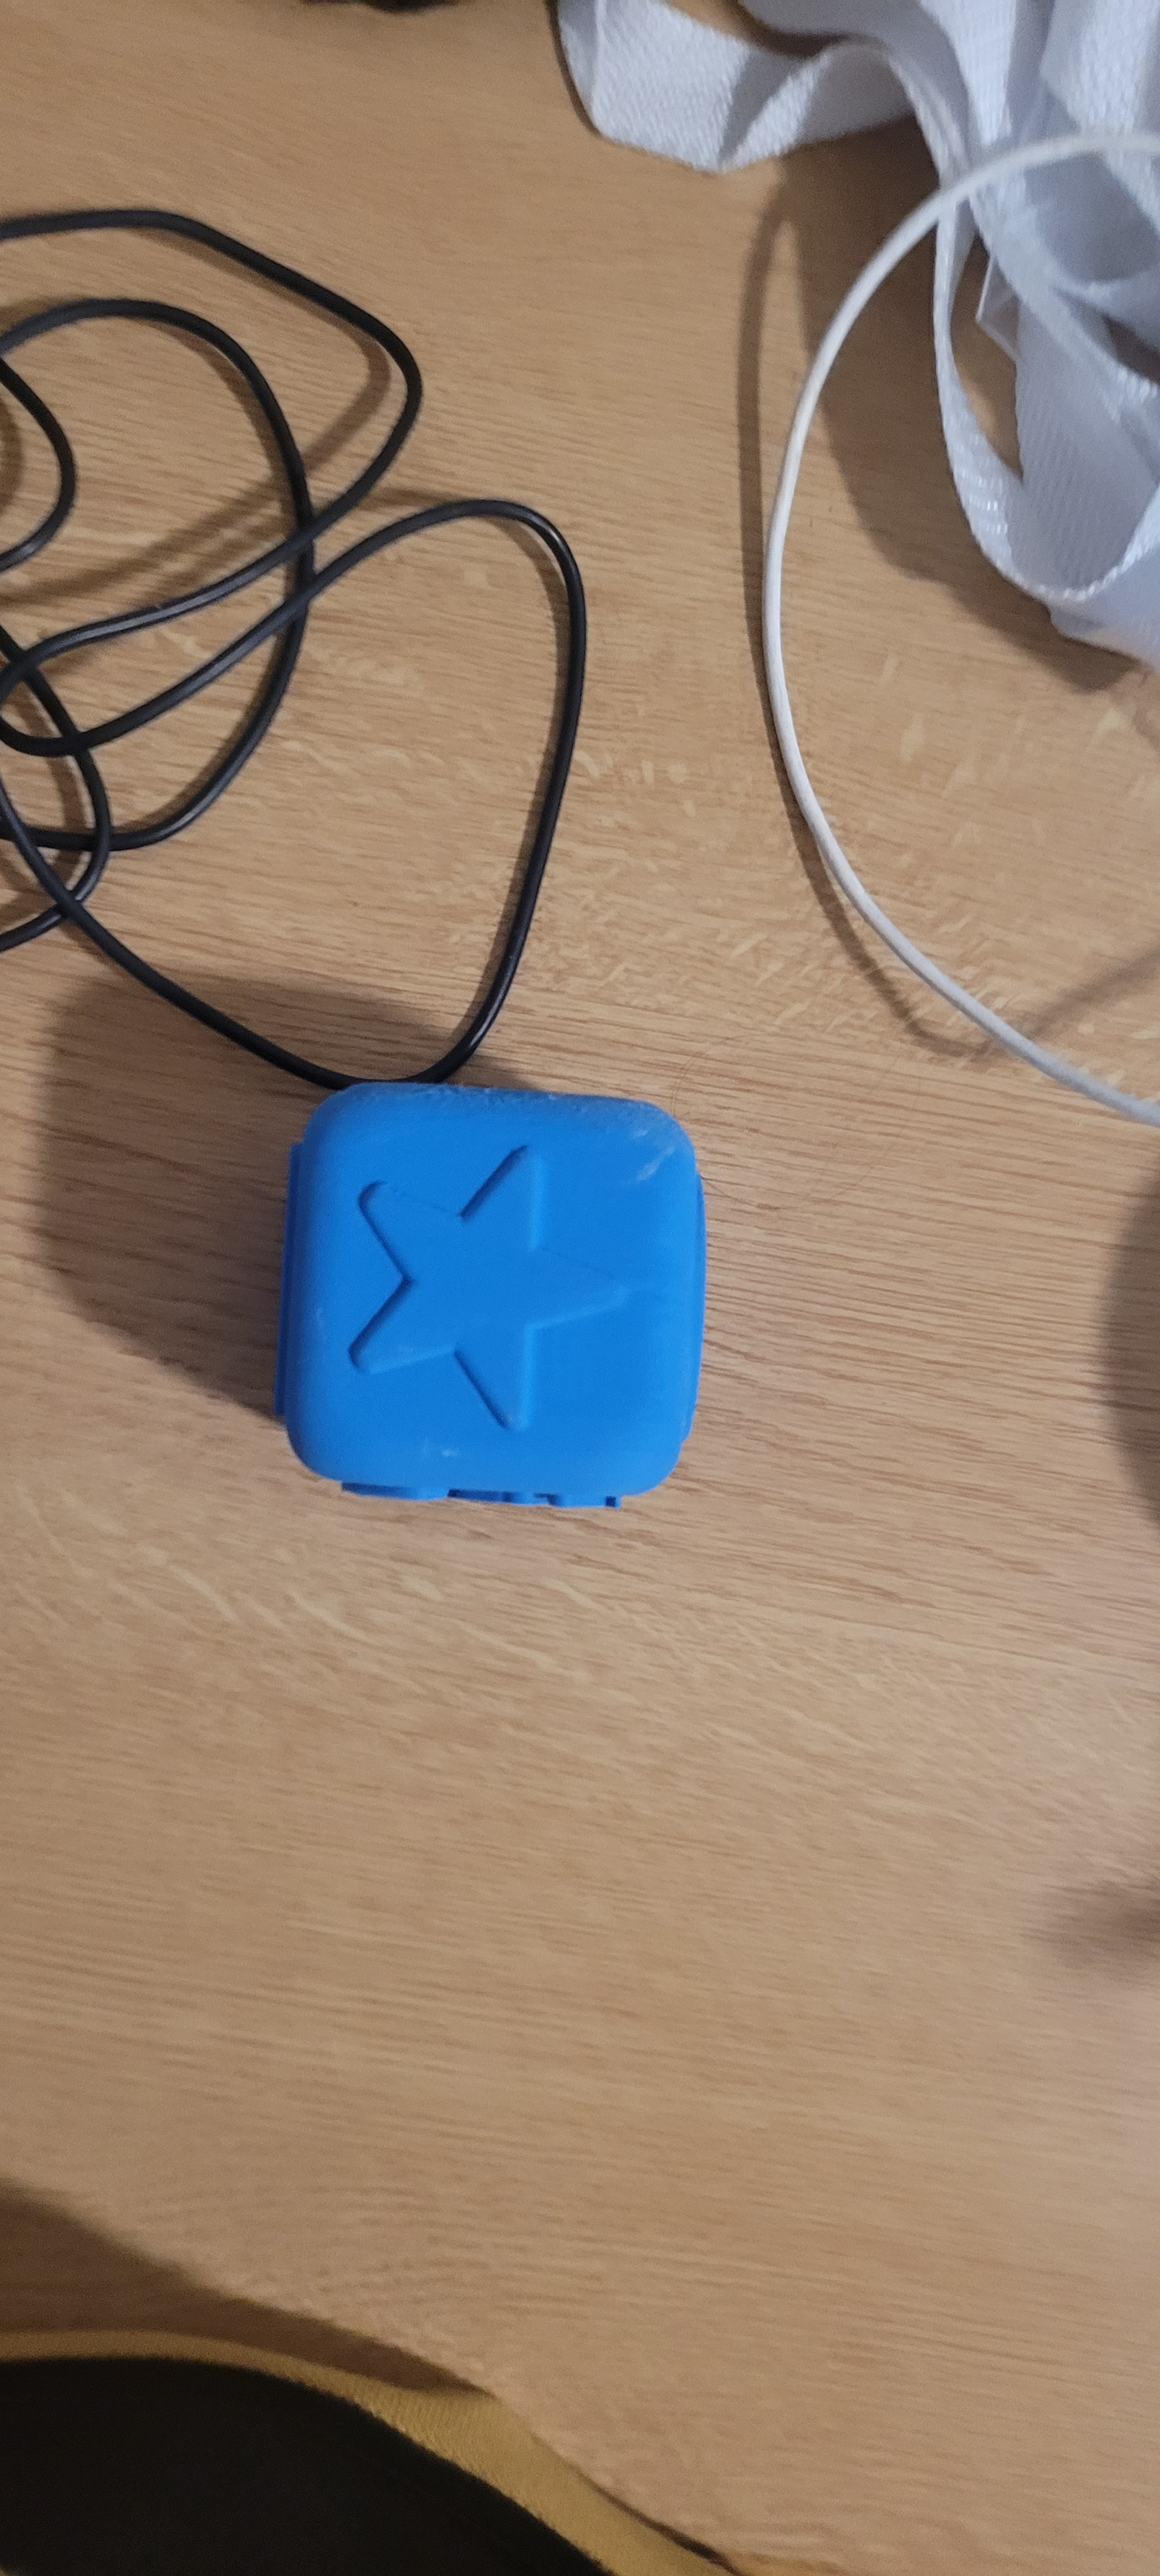Star: (307, 1073, 665, 1457)
